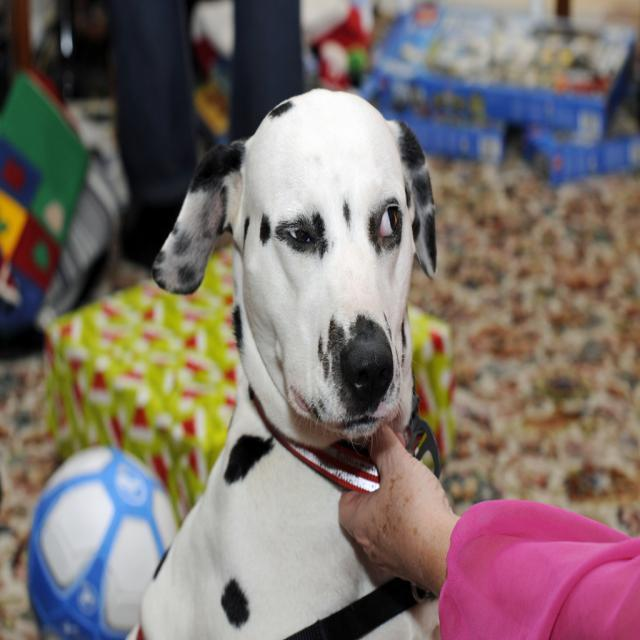ball: (26, 446, 181, 640)
